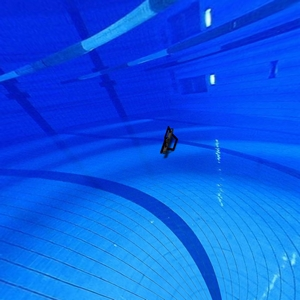submarine: (158, 124, 180, 162)
